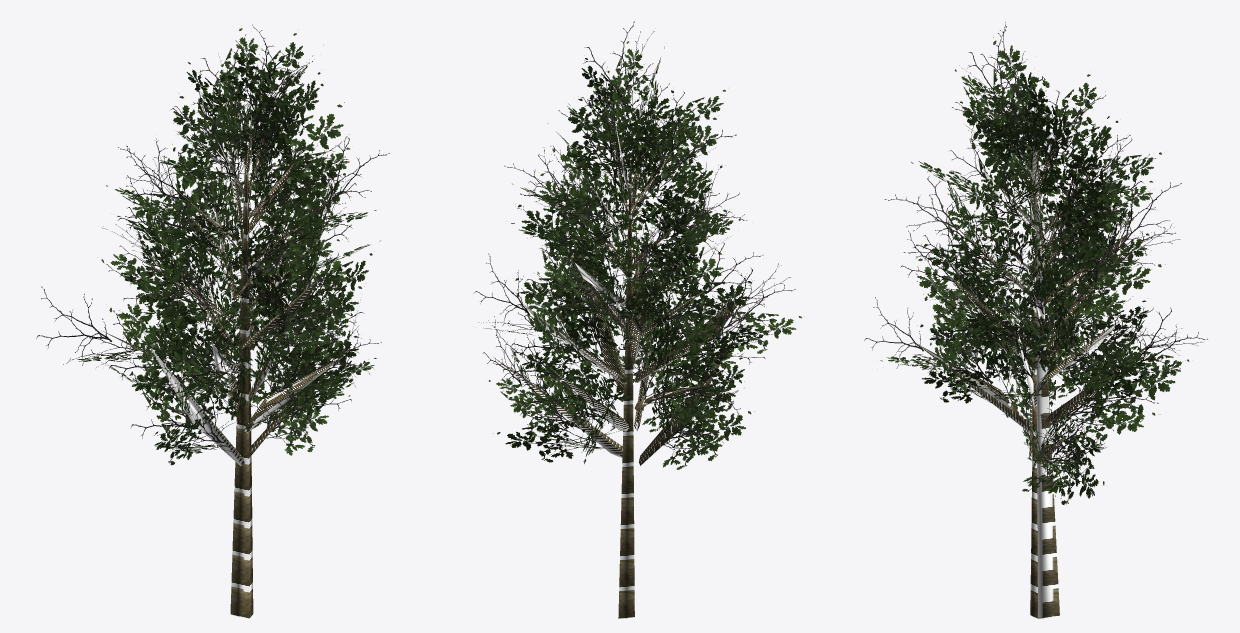
Rendered from TreeOak04_Test_1.fbx.
The picture shows the model from 3 angles, left to right: view 1: azimuth 30°, elevation 25°; view 2: azimuth 150°, elevation 25°; view 3: azimuth 270°, elevation 25°; orthographic projection. The views are drawn at different scales.
Parts seen in each view (by area): view 1: TreeOak04; view 2: TreeOak04; view 3: TreeOak04.
Boxes of the visible parts, x1=… form: TreeOak04: x1=36, y1=24, x2=389, y2=618; TreeOak04: x1=474, y1=21, x2=804, y2=618; TreeOak04: x1=864, y1=22, x2=1207, y2=618.
Size of the model in its own units: 1202 by 2020 by 1175.
